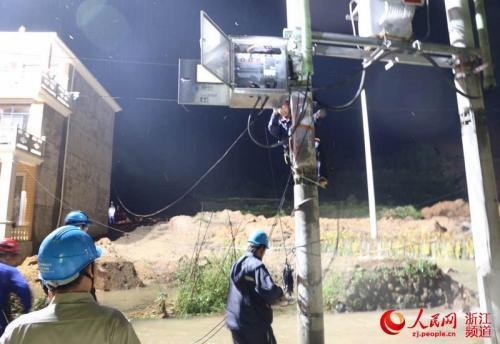helmet: (42, 222, 100, 300), (247, 226, 270, 259), (66, 209, 93, 236), (1, 235, 20, 269)
